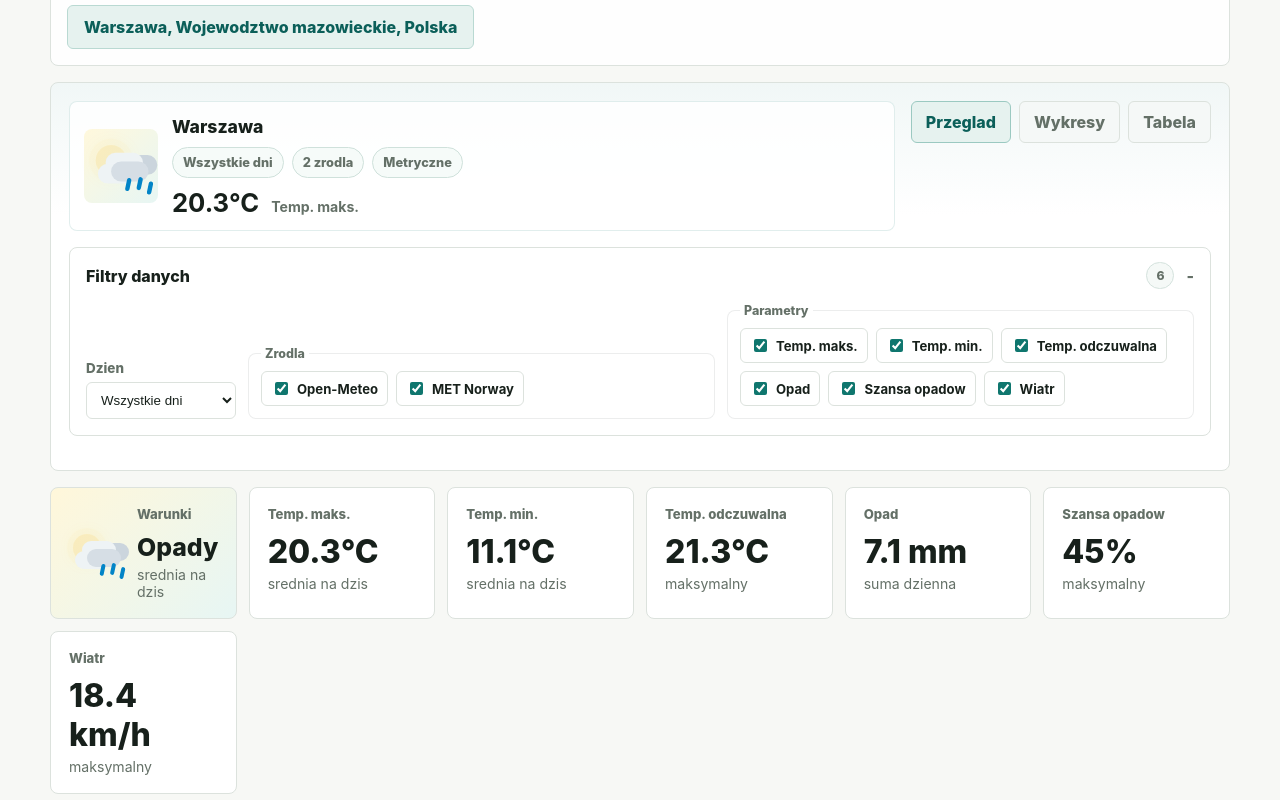
Test case: App › filters forecast data by selected day and writes it to the URL
(page scrolled)
Select "wt., 12.05" in the dropdown. click: (161, 400)
box: x1=86 y1=382 x2=236 y2=419
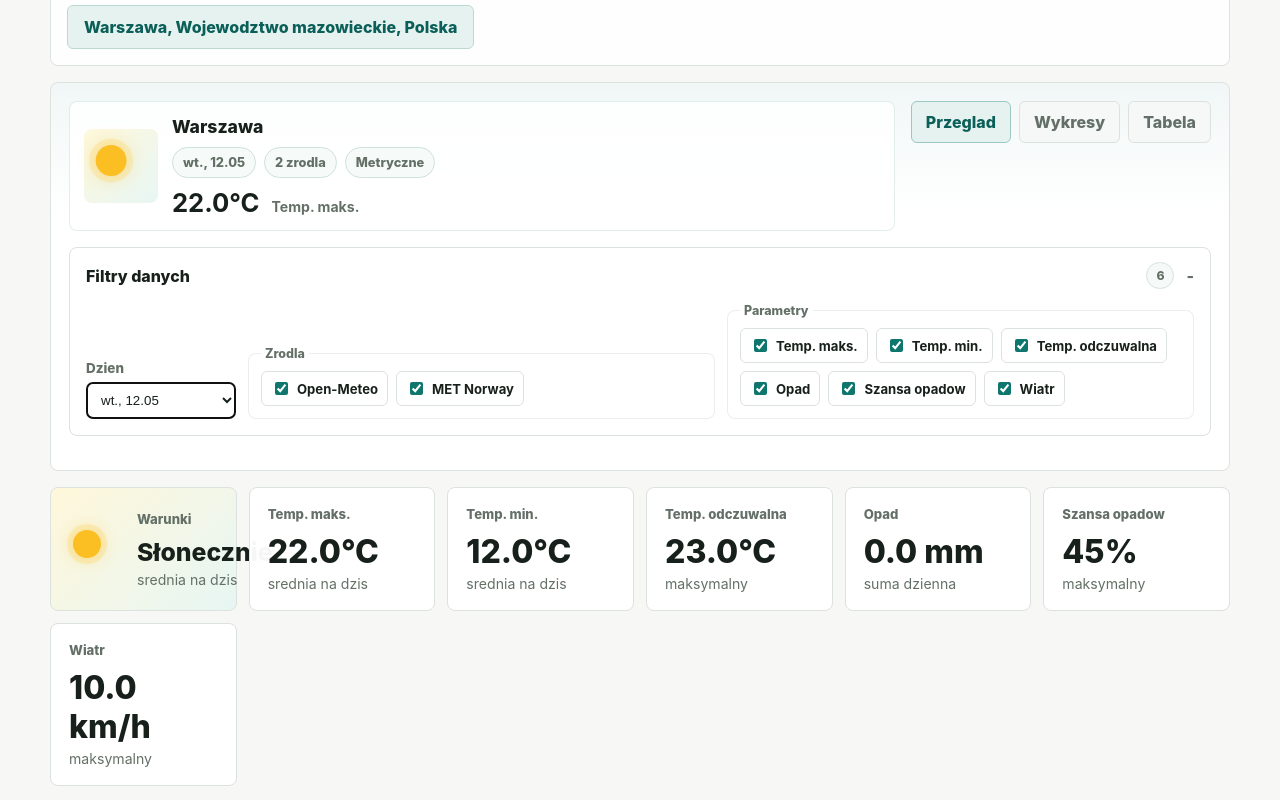
Expected: the text "20.3°C" is gone
